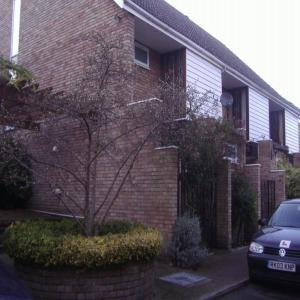Vehicle-registration-plate: (268, 261, 297, 274)
